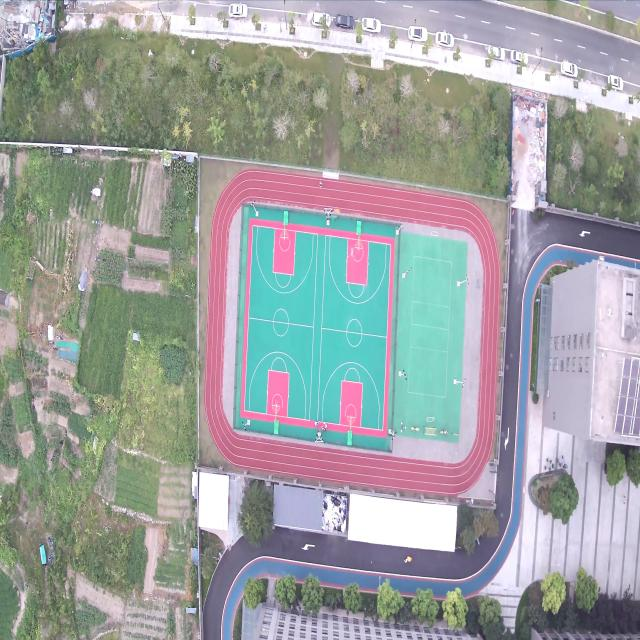UAV: (347, 244, 356, 260)
